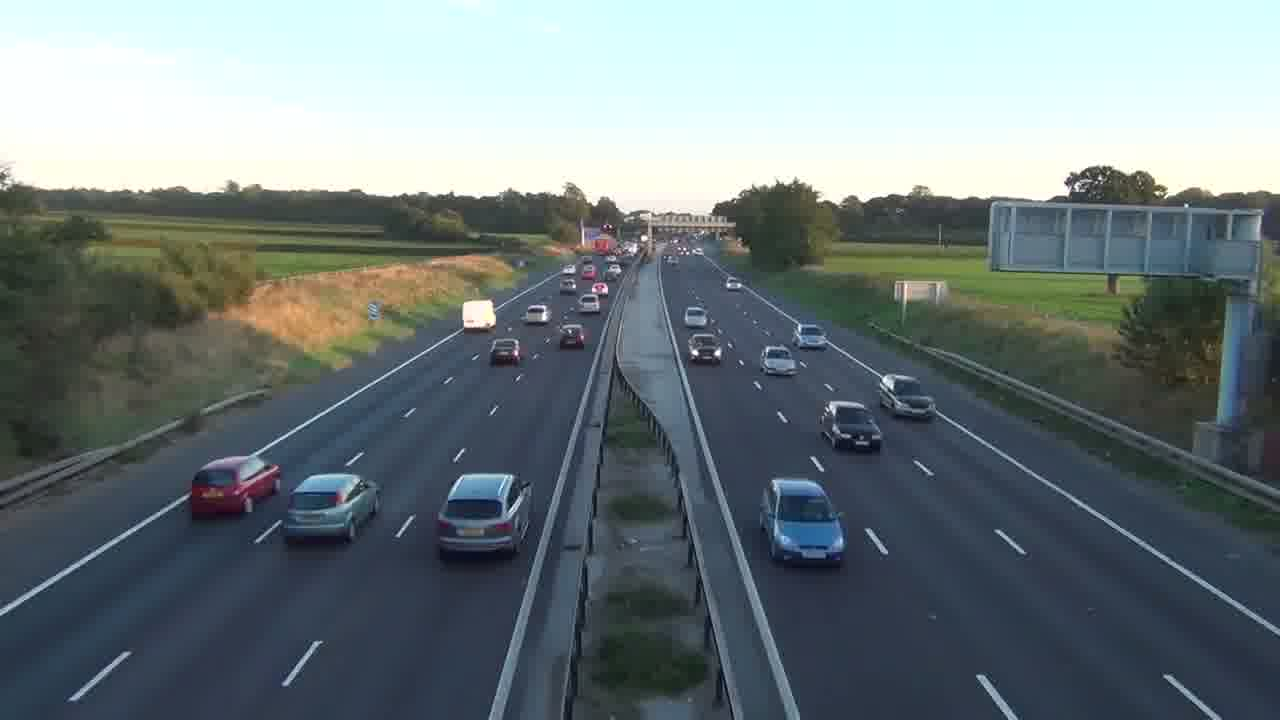car: (435, 472, 534, 559), (758, 477, 848, 567), (282, 472, 382, 543), (189, 455, 281, 518), (818, 400, 884, 453), (877, 372, 936, 420), (760, 345, 798, 375), (688, 334, 723, 366), (489, 338, 522, 367), (559, 322, 586, 349)
truck: (462, 299, 497, 334)
